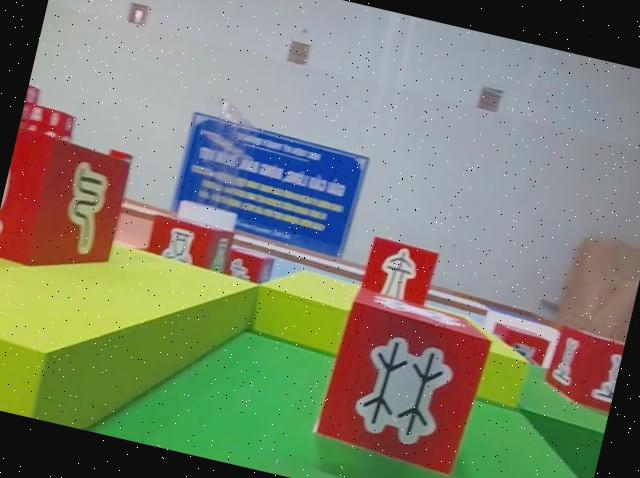R2 Fake: (0, 127, 135, 287), (359, 231, 440, 309)
R2 Real: (305, 282, 497, 478), (541, 319, 627, 412), (143, 211, 236, 281)
